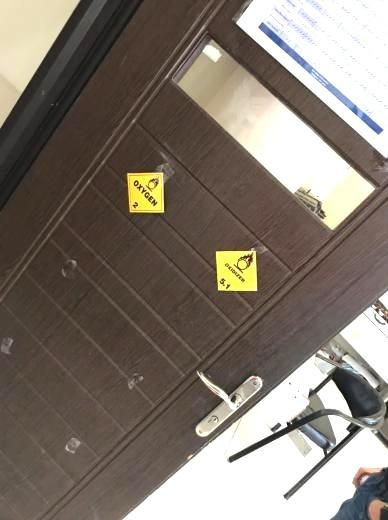oxidizer: (215, 250, 258, 292), (127, 173, 165, 214)
